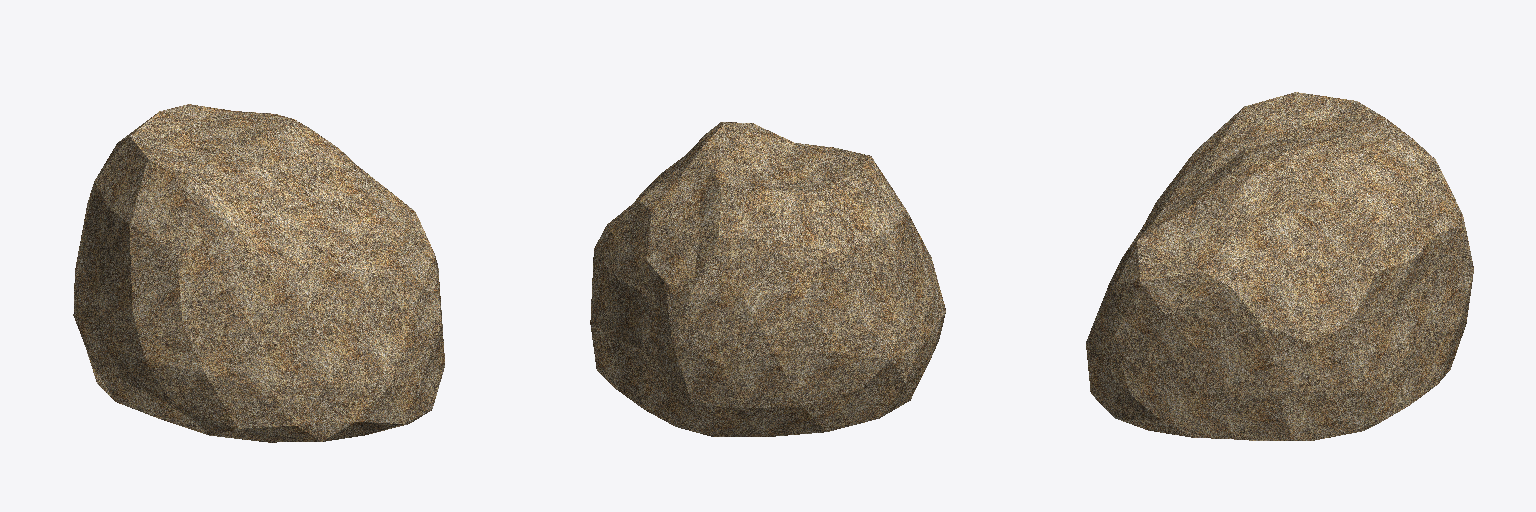
The picture shows the model from 3 angles: view 1: azimuth 30°, elevation 25°; view 2: azimuth 150°, elevation 25°; view 3: azimuth 270°, elevation 25°; orthographic projection.
Parts seen in each view (by area): view 1: Rock_Icosphere; view 2: Rock_Icosphere; view 3: Rock_Icosphere.
Part boxes in pixels (x1,y1,x2,y2): Rock_Icosphere: (73, 104, 444, 442); Rock_Icosphere: (590, 122, 945, 436); Rock_Icosphere: (1086, 92, 1473, 440).
Size of the model in its own units: 1.64 by 1.28 by 1.8.
1 materials, 1 textured.